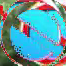No waiting: (7, 3, 62, 65)
